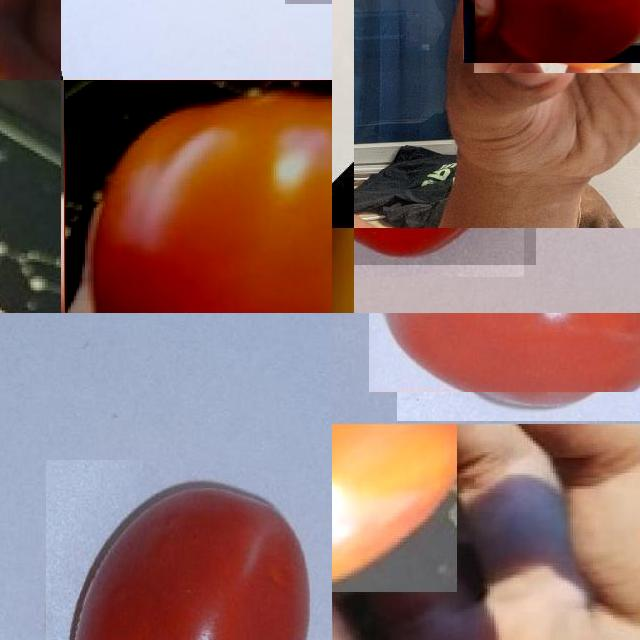0: (64, 80, 332, 313)
Fresh Tomato: (36, 470, 332, 640), (382, 313, 640, 406), (332, 424, 457, 591)
Rotten Tomato: (463, 0, 640, 63)
